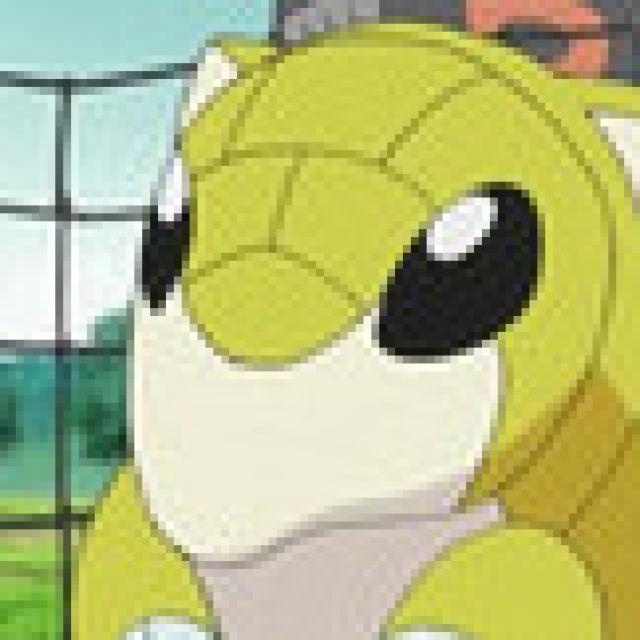Sandshrew: (118, 29, 640, 640)
